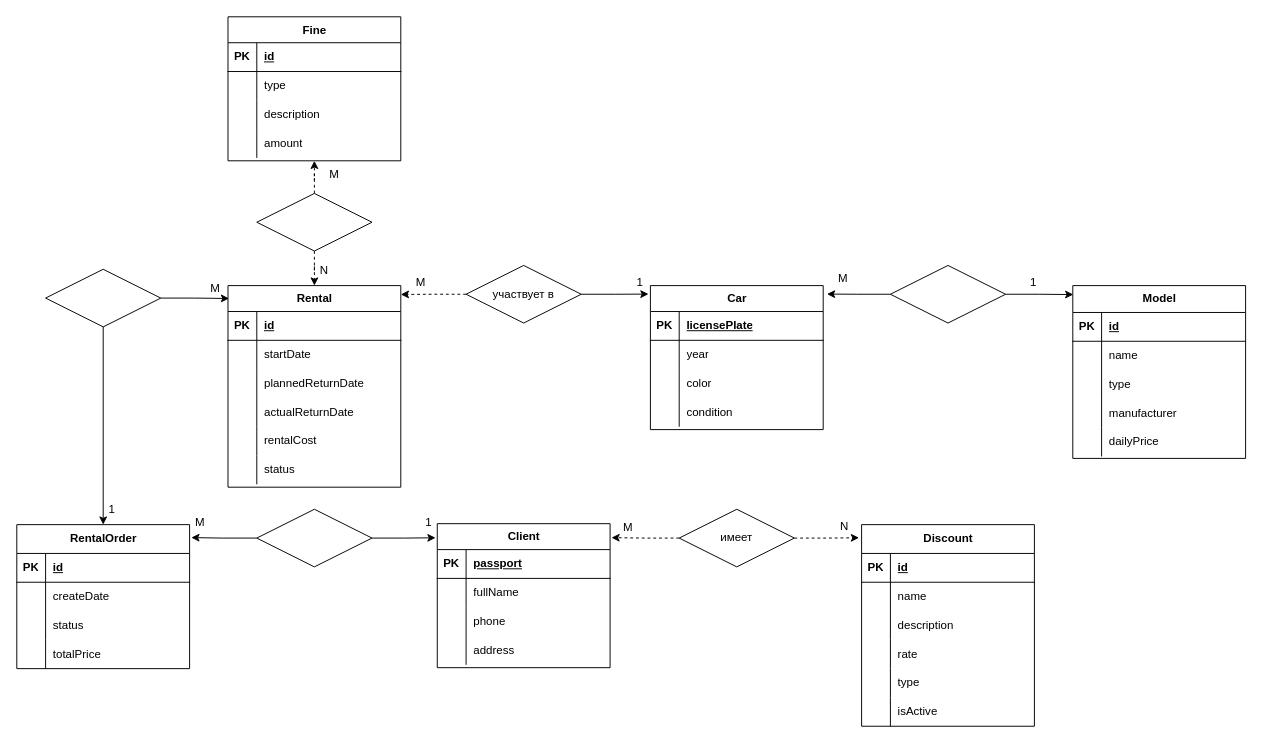
Some shapes in this 1262 by 743 pixel diagram are drawn without their labels. The centre of each missing label's shape, as x and y in pixels:
cовершает: (314,537)
cодержит: (103,297)
влечёт: (314,221)
реализуется как: (947,293)
